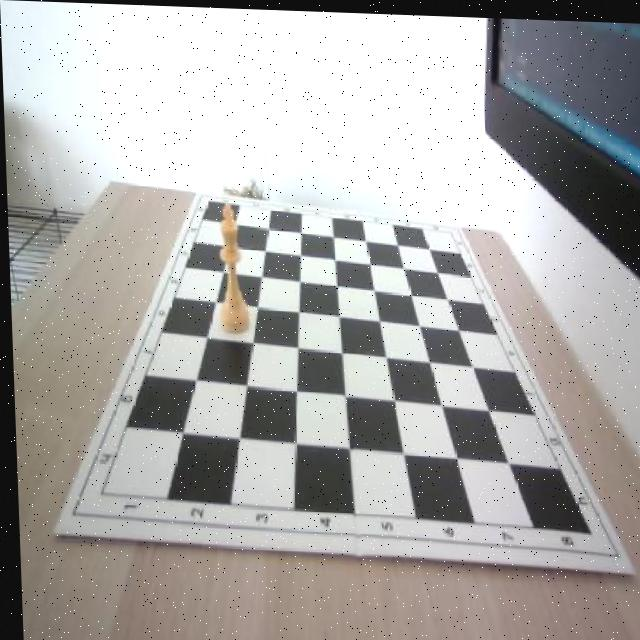white-bishop: (213, 201, 249, 335)
